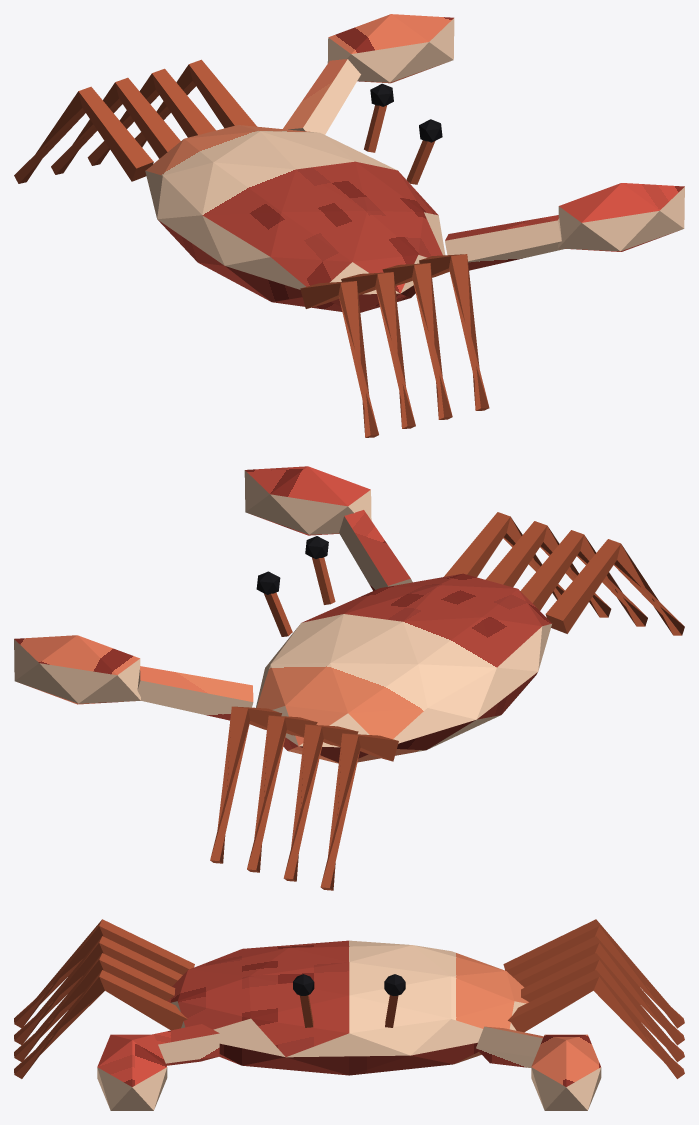
The model's file is coral_crab.glb.
3 views of the same model, one above another, from view 1: azimuth 30°, elevation 25°; view 2: azimuth 150°, elevation 25°; view 3: azimuth 270°, elevation 25° (orthographic). The views are drawn at different scales.
Parts seen in each view (by area): view 1: fish_coral_crab; view 2: fish_coral_crab; view 3: fish_coral_crab.
Boxes of the visible parts, x1,y1,x2,y2 form: fish_coral_crab: (14,14,684,437); fish_coral_crab: (14,466,684,890); fish_coral_crab: (14,919,684,1110).
Size of the model in its own units: 0.7228 by 0.2887 by 1.17.
Materials: 3 (1 with a texture image).
